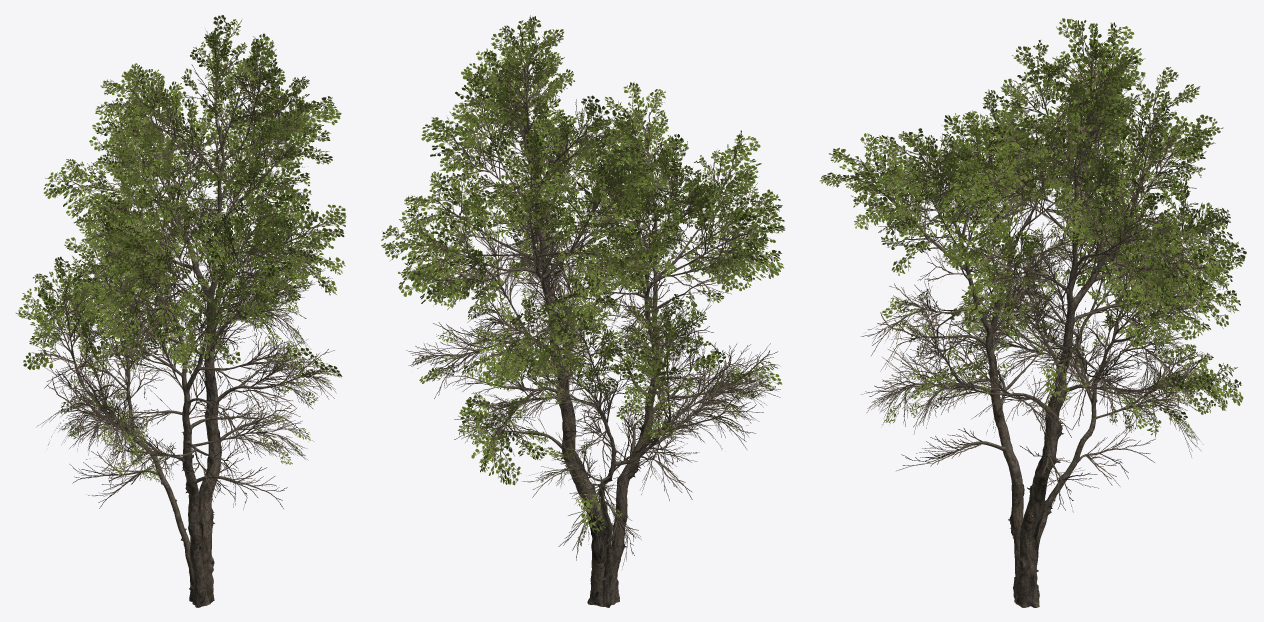
File: SM_BlackAlder_Forest_05_PP_LOD1.gltf
3 renders of one model, left to right at view 1: azimuth 30°, elevation 25°; view 2: azimuth 150°, elevation 25°; view 3: azimuth 270°, elevation 25°, orthographic. The views are drawn at different scales.
Parts seen in each view (by area): view 1: SM_BlackAlder_Forest_05_PP; view 2: SM_BlackAlder_Forest_05_PP; view 3: SM_BlackAlder_Forest_05_PP.
Part boxes in pixels (box(x1,y1,x2,y2)): SM_BlackAlder_Forest_05_PP: box(16, 15, 346, 607); SM_BlackAlder_Forest_05_PP: box(381, 15, 784, 607); SM_BlackAlder_Forest_05_PP: box(820, 18, 1246, 607).
Size of the model in its own units: 5.99 by 11.07 by 7.16.
3 materials, 3 textured.
